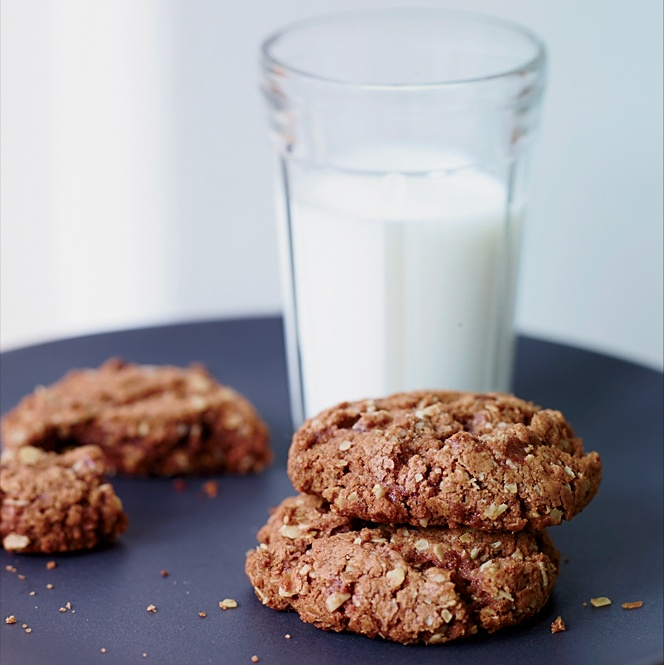background: (252, 144, 626, 665), (0, 212, 282, 578)
